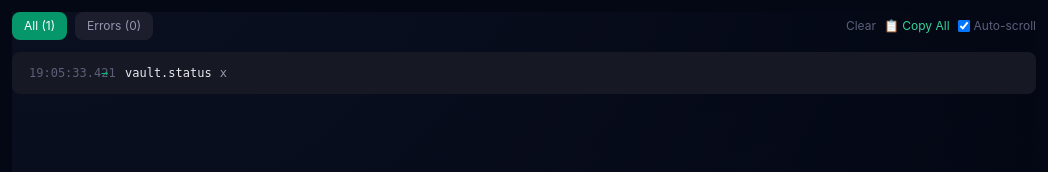
Test: ConsoleLog.svelte › clears logs when Clear is clicked
Expected: the text "vault.status" is shown, [125,65,212,81]
Click the button "Clear" at [861, 26], box [846,18,876,34]
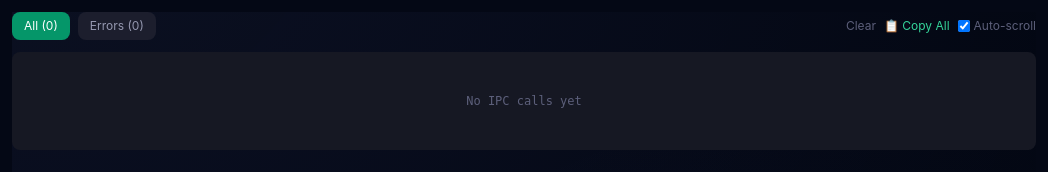
Now the text "No IPC calls yet" is shown, box [466,94,582,108]
